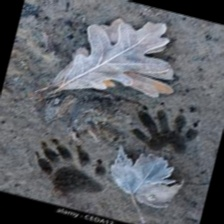raccoon: (19, 125, 123, 206), (122, 94, 214, 162)
